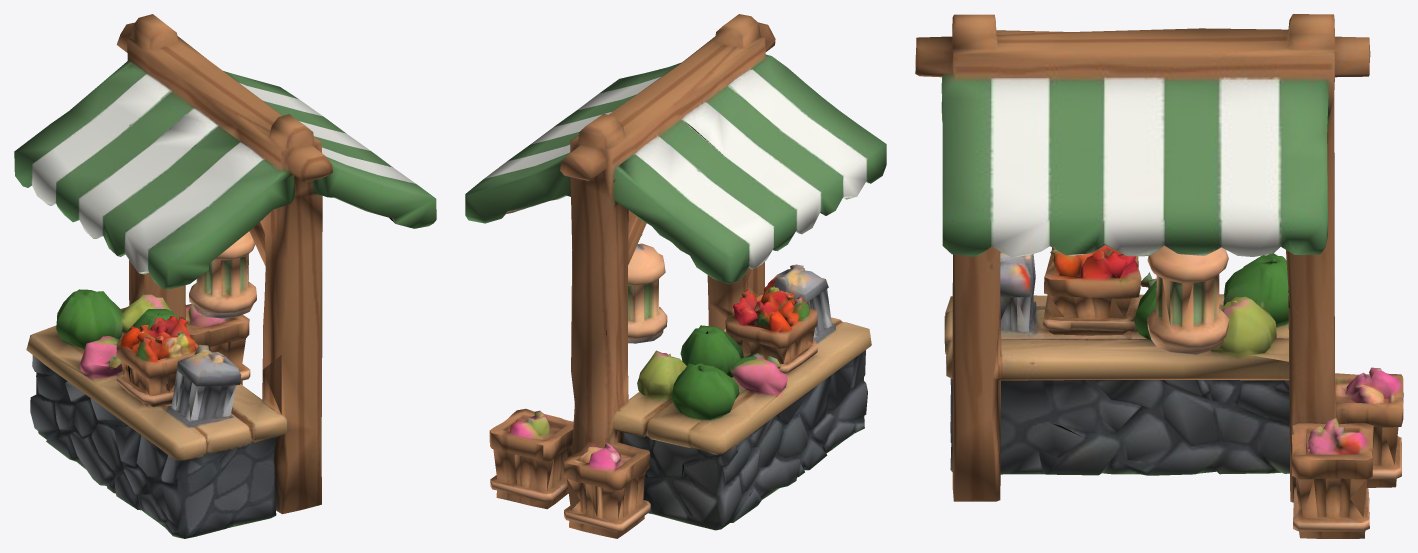
The model's file is awning_stall_2_6000.glb.
3 renders of one model, left to right at view 1: azimuth 30°, elevation 25°; view 2: azimuth 150°, elevation 25°; view 3: azimuth 270°, elevation 25°, orthographic. The views are drawn at different scales.
Parts seen in each view (by area): view 1: t6000; view 2: t6000; view 3: t6000.
Boxes of the visible parts, box(x1,y1,x2,y2) form: t6000: box(14, 14, 436, 538); t6000: box(465, 14, 886, 538); t6000: box(915, 14, 1403, 538).
Bounding box in the file's own units: 1.12 × 1.52 × 1.42.
1 material, 1 textured.
